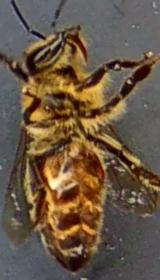varroa_mite: (88, 147, 109, 186)
